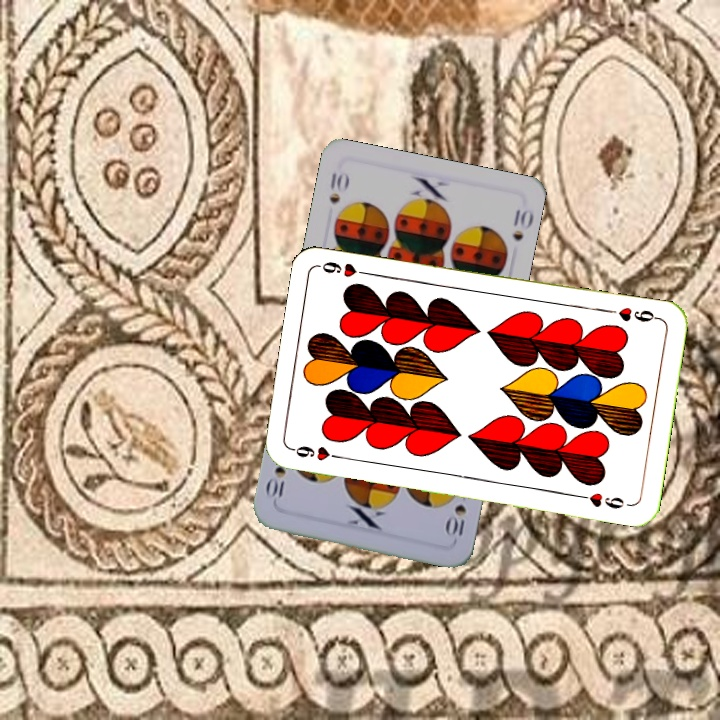H9: (603, 303, 662, 325), (289, 442, 347, 464)
S10: (442, 500, 469, 541), (325, 168, 352, 206)
